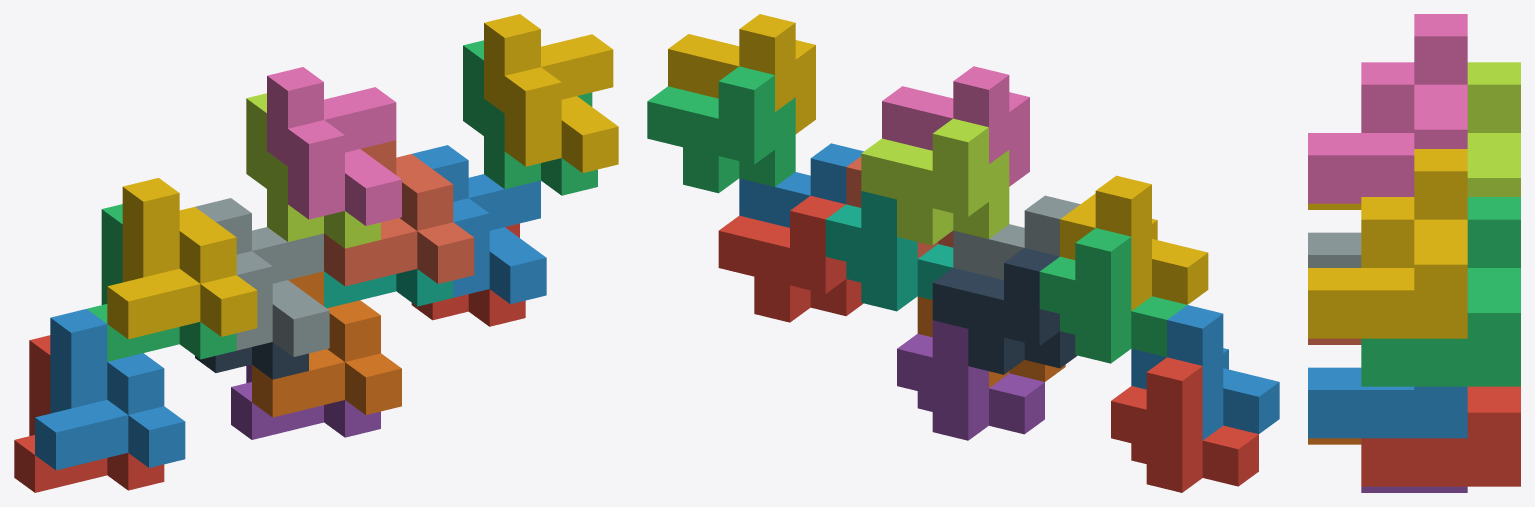
The model's file is tiling.obj.
The picture shows the model from 3 angles, left to right: view 1: azimuth 30°, elevation 25°; view 2: azimuth 150°, elevation 25°; view 3: azimuth 270°, elevation 25°; orthographic projection. The views are drawn at different scales.
Visible parts, largest first — view 1: copy_1_domain_4, copy_1_domain_2, copy_2_domain_8, copy_2_domain_4, copy_1_domain_8, copy_1_domain_6, copy_2_domain_6, copy_2_domain_2, copy_2_domain_7, copy_1_domain_1, copy_2_domain_3, copy_1_domain_3 (+4 smaller); view 2: copy_2_domain_3, copy_2_domain_7, copy_1_domain_1, copy_1_domain_3, copy_2_domain_5, copy_2_domain_1, copy_1_domain_5, copy_1_domain_4, copy_1_domain_7, copy_2_domain_4, copy_2_domain_8, copy_1_domain_2 (+4 smaller); view 3: copy_2_domain_8, copy_2_domain_4, copy_2_domain_7, copy_2_domain_5, copy_2_domain_6, copy_2_domain_3, copy_2_domain_2, copy_1_domain_5, copy_1_domain_6, copy_1_domain_4, copy_1_domain_8.
Part boxes in pixels (box(x1,y1,x2,y2)): copy_1_domain_4: box(107, 178, 257, 339); copy_1_domain_2: box(35, 309, 185, 470); copy_2_domain_8: box(484, 14, 618, 172); copy_2_domain_4: box(267, 67, 401, 225); copy_1_domain_8: box(324, 140, 474, 286); copy_1_domain_6: box(252, 271, 401, 417); copy_2_domain_6: box(412, 145, 546, 304); copy_2_domain_2: box(195, 198, 329, 356); copy_2_domain_7: box(463, 40, 597, 195); copy_1_domain_1: box(14, 335, 164, 492); copy_2_domain_3: box(246, 93, 380, 248); copy_1_domain_3: box(87, 204, 236, 361); copy_2_domain_3: box(861, 118, 1009, 245); copy_2_domain_7: box(647, 66, 795, 193); copy_1_domain_1: box(1111, 357, 1258, 492); copy_1_domain_3: box(1039, 228, 1186, 363); copy_2_domain_5: box(718, 195, 863, 322); copy_2_domain_1: box(932, 248, 1077, 374); copy_1_domain_5: box(897, 320, 1044, 440); copy_1_domain_4: box(1060, 175, 1208, 310); copy_1_domain_7: box(825, 191, 953, 311); copy_2_domain_4: box(882, 66, 1029, 186); copy_2_domain_8: box(668, 14, 815, 133); copy_1_domain_2: box(1131, 305, 1279, 440); copy_2_domain_8: box(1308, 149, 1467, 338); copy_2_domain_4: box(1308, 14, 1467, 203); copy_2_domain_7: box(1361, 197, 1520, 386); copy_2_domain_5: box(1361, 386, 1520, 486); copy_2_domain_6: box(1308, 367, 1467, 438); copy_2_domain_3: box(1467, 62, 1520, 196); copy_2_domain_2: box(1308, 232, 1361, 267); copy_1_domain_5: box(1361, 486, 1467, 492); copy_1_domain_6: box(1308, 438, 1361, 444); copy_1_domain_4: box(1308, 203, 1361, 209); copy_1_domain_8: box(1308, 338, 1361, 344).
Size of the model in its own units: 16 by 9 by 4.
